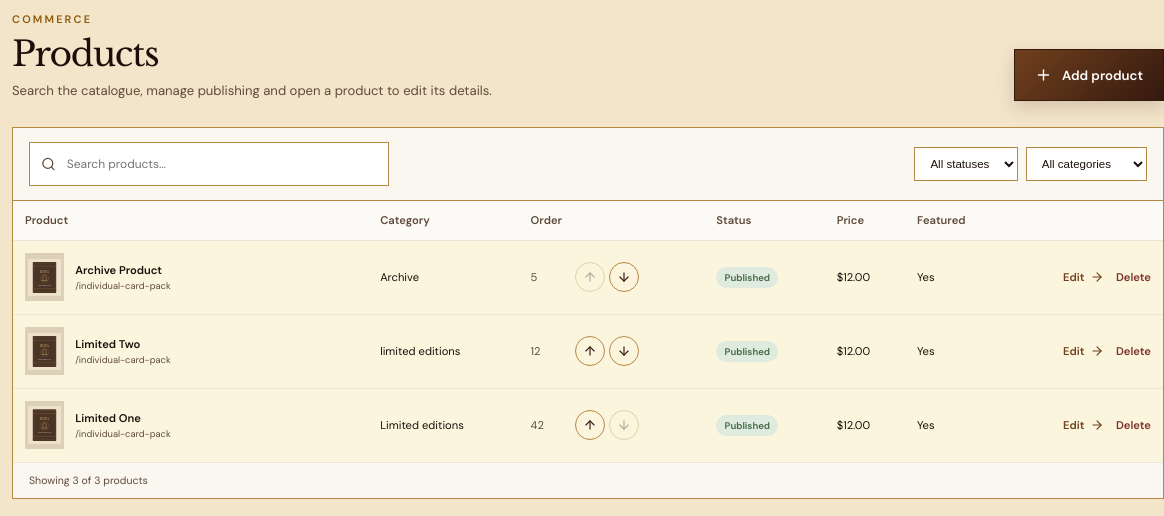
Test: product category and storefront order editing › reloads administrator-managed categories in the products filter and matches them case-insensitively
Select "limited editions" in the 2nd dropdown named "Filter by category" at [1086, 164], box [1026,147,1147,181]
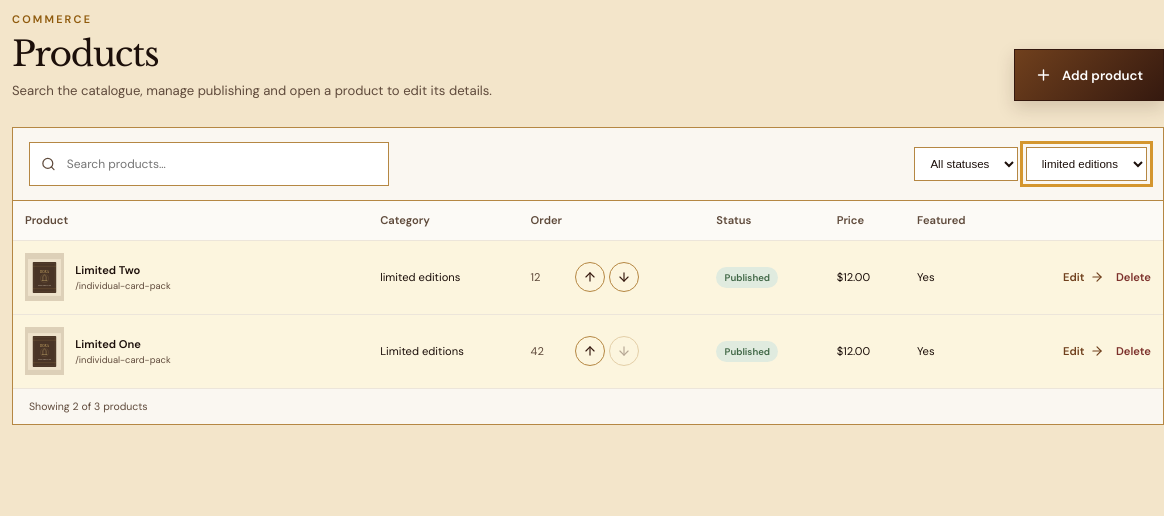
Expected: the text "Limited One" is shown, [75,337,141,351]
Expected: the link "Archive Product" is gone
